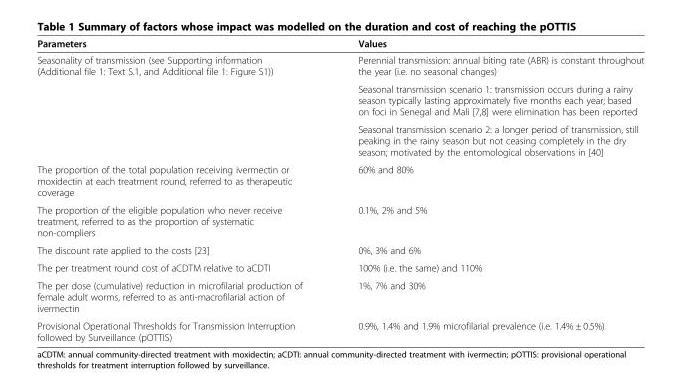table: (36, 37, 643, 342)
table column: (329, 37, 643, 342), (36, 37, 329, 342)
table column header: (36, 37, 643, 51)
table row: (36, 79, 643, 120), (36, 200, 643, 241), (36, 120, 643, 160), (36, 160, 643, 200), (36, 276, 643, 316), (36, 51, 643, 79), (36, 316, 643, 342), (36, 258, 643, 276), (36, 241, 643, 258), (36, 37, 643, 51)
table spanning cell: (36, 51, 329, 160)
